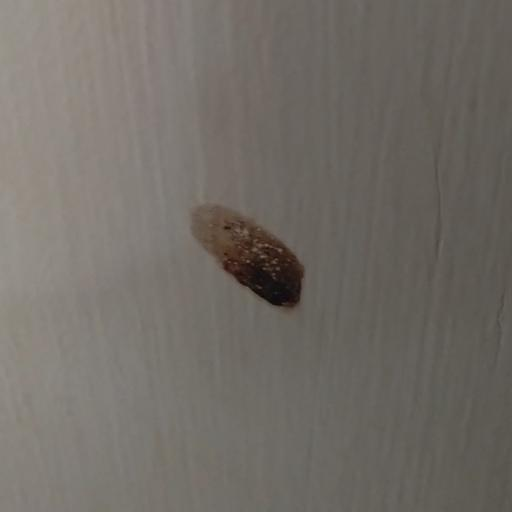stain: (173, 184, 314, 324)
